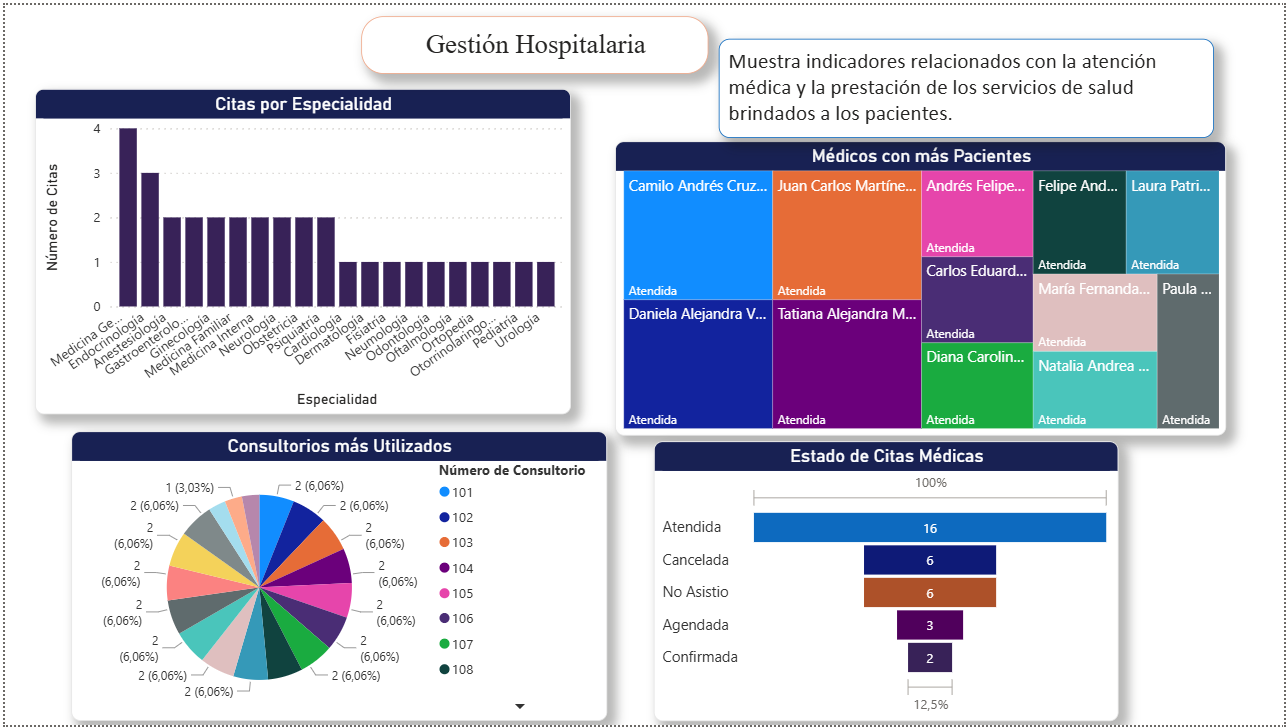

The dashboard page shown, as its layout file describes it:
{"tool":"powerbi","page":{"name":"Atención Médica","canvas":[1280,720],"ordinal":1},"visuals":[{"type":"clusteredColumnChart","title":"Citas por Especialidad","fields":{"Y":["CountNonNull(proyecto_hospital cita.id_cita)"],"Category":["proyecto_hospital especialidades.nombre_especialidad"]},"box":[30,84.3,535.7,325.7],"z":0},{"type":"treemap","title":"Médicos con más Pacientes","fields":{"Group":["proyecto_hospital medicos.nombre_completo_medico"],"Values":["CountNonNull(proyecto_hospital cita.id_cita)"],"Details":["proyecto_hospital cita.estado_cita"]},"box":[610.2,135.7,611.4,294.7],"z":1000},{"type":"pieChart","title":"Consultorios más Utilizados","fields":{"Category":["proyecto_hospital consultorio.numero_consultorio"],"Y":["CountNonNull(proyecto_hospital cita.id_cita)"]},"box":[66,426.8,535.6,289.8],"z":2000},{"type":"funnel","title":"Estado de Citas Médicas","fields":{"Category":["proyecto_hospital cita.estado_cita"],"Y":["CountNonNull(proyecto_hospital cita.id_cita)"]},"box":[649.3,436.6,464.7,280],"z":3000},{"type":"textbox","box":[355.8,11,347.3,57.5],"z":4000},{"type":"textbox","box":[714.1,34.2,495.2,99],"z":5000}]}

Visuals, with their boxes in screenshot pixels (x1, y1, x2, y2), scaled from the page's 1280x720 canvas onto the 1287x727 screenshot:
"Citas por Especialidad" clusteredColumnChart: <bbox>30, 85, 569, 414</bbox>
"Médicos con más Pacientes" treemap: <bbox>614, 137, 1228, 435</bbox>
"Consultorios más Utilizados" pieChart: <bbox>66, 431, 605, 724</bbox>
"Estado de Citas Médicas" funnel: <bbox>653, 441, 1120, 724</bbox>
textbox: <bbox>358, 11, 707, 69</bbox>
textbox: <bbox>718, 35, 1216, 134</bbox>
